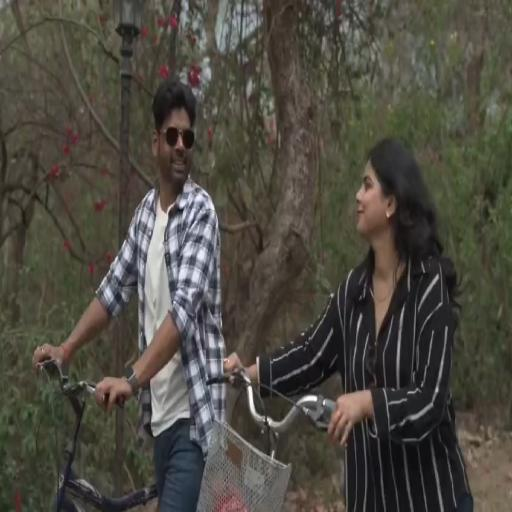person: (222, 128, 472, 506), (31, 77, 236, 512)
